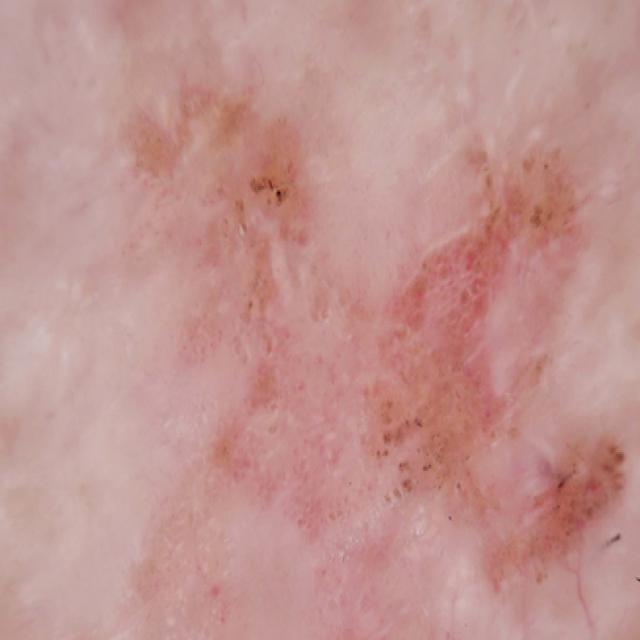Carcinoma: (129, 84, 640, 610)
